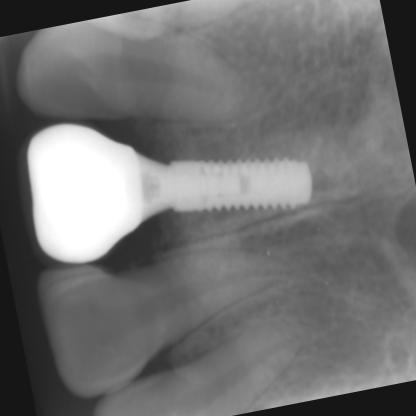ITI: (146, 129, 326, 238)
